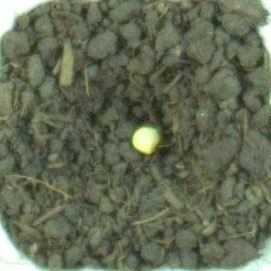pepper seed: (49, 47, 211, 202)
